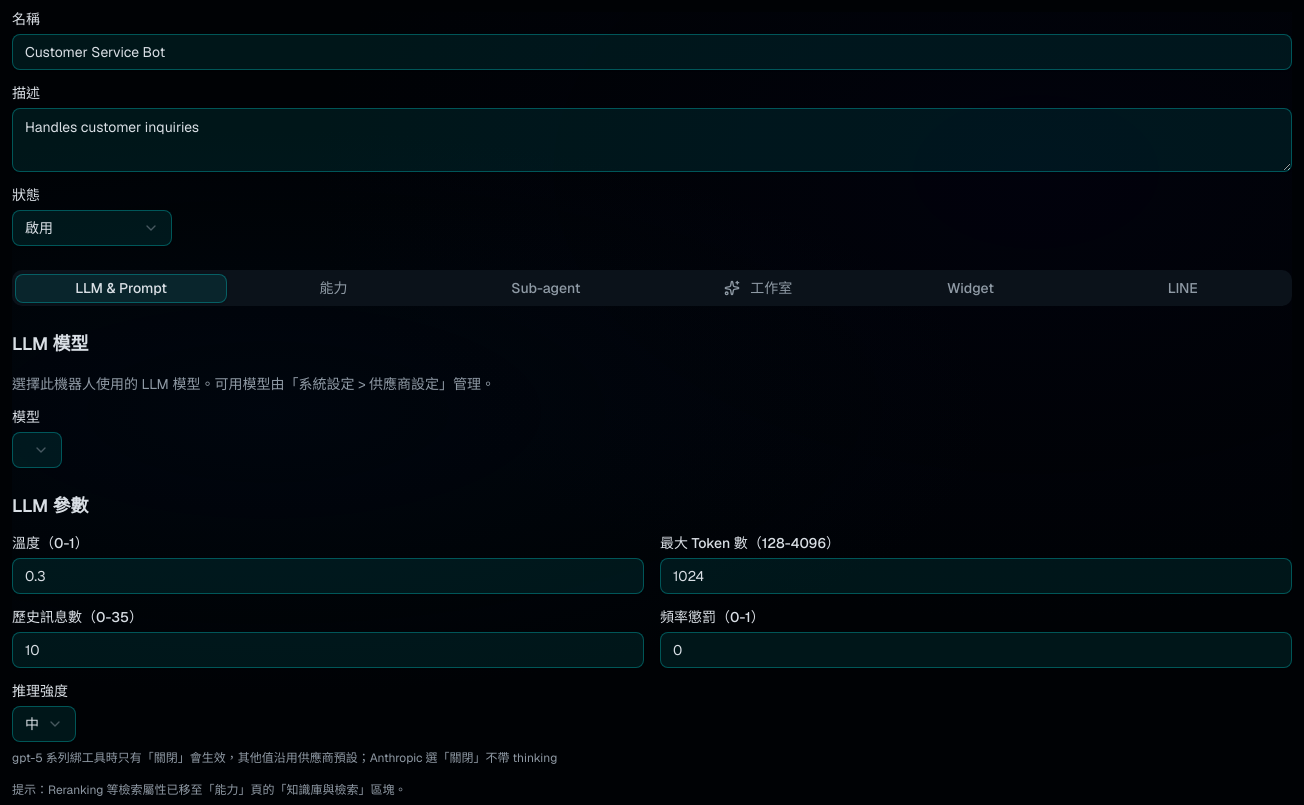
it: BotDetailForm › should reflect bot.enabled_tools in checkbox checked state
Click the tab "能力" at (333, 288), box [227, 274, 440, 302]
(page scrolled)
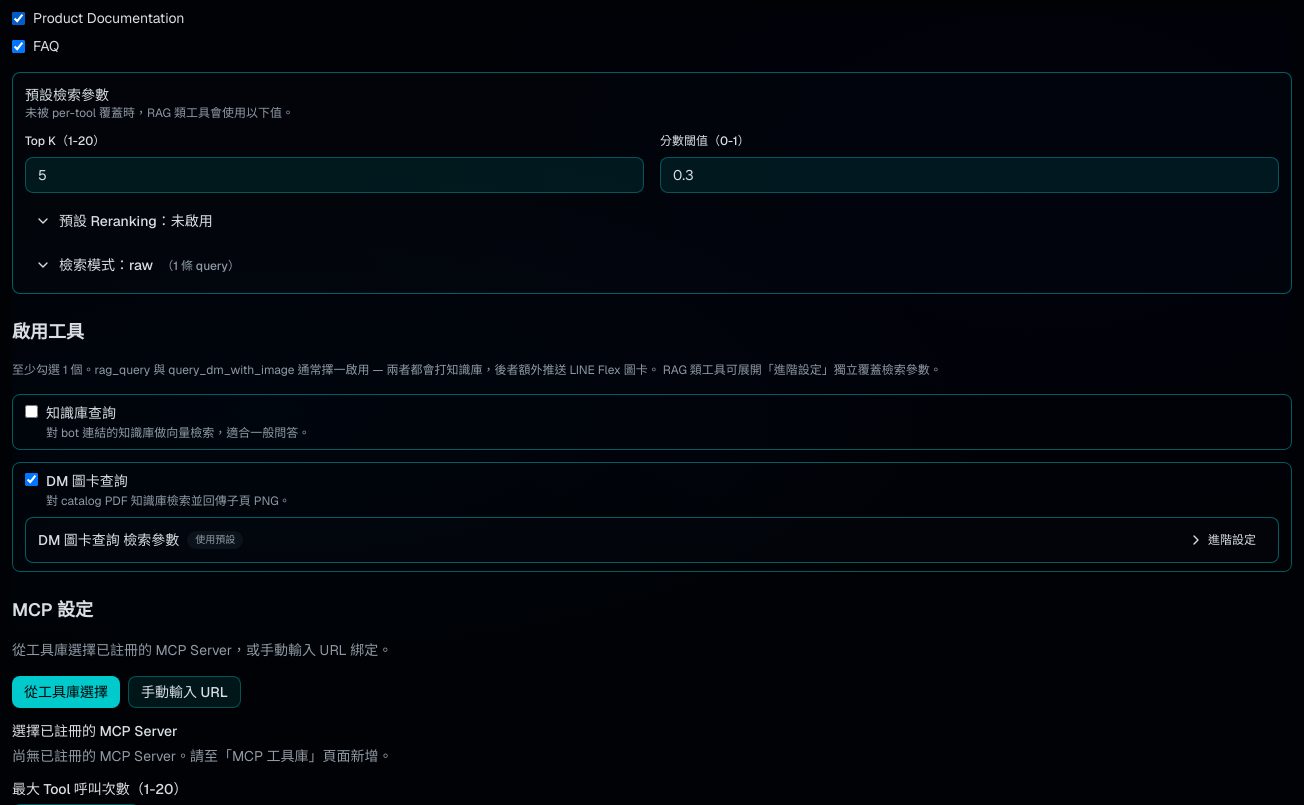
Expected: the checkbox labelled "DM 圖卡查詢 對 catalog PDF 知識庫檢索並回傳子頁 PNG。" is checked, [25, 473, 38, 486]
Expected: the checkbox labelled "知識庫查詢 對 bot 連結的知識庫做向量檢索，適合一般問答。" is not checked, [25, 405, 38, 418]
